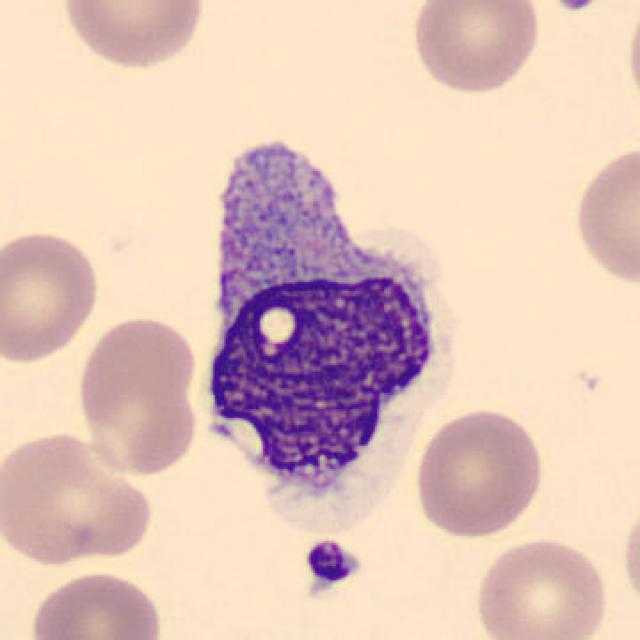Monocyte: (187, 118, 464, 534)
Platelets: (300, 536, 361, 589), (549, 0, 603, 14)
RBC: (73, 310, 203, 480), (0, 426, 156, 567), (410, 404, 548, 541), (469, 532, 612, 640), (0, 226, 103, 366), (407, 0, 544, 97), (55, 0, 209, 72), (569, 141, 638, 291), (26, 567, 167, 640), (618, 494, 640, 619), (624, 0, 640, 122)
